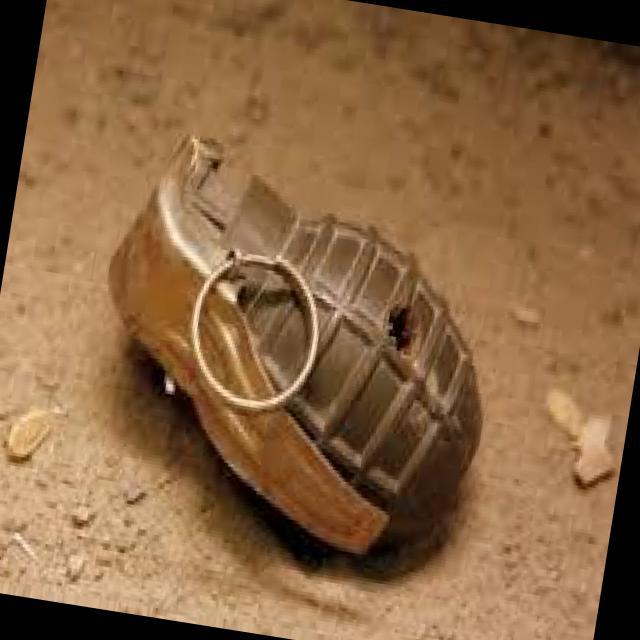grenade: (83, 118, 523, 566)
